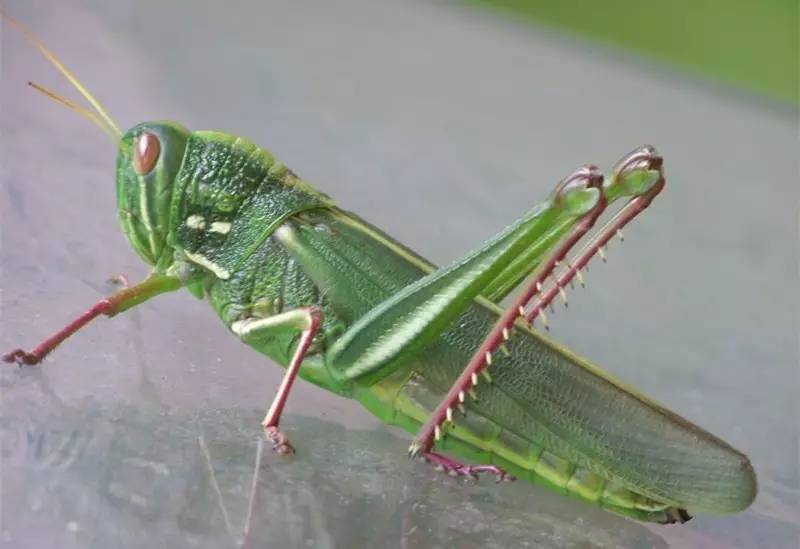huangchong: (101, 112, 740, 528)
